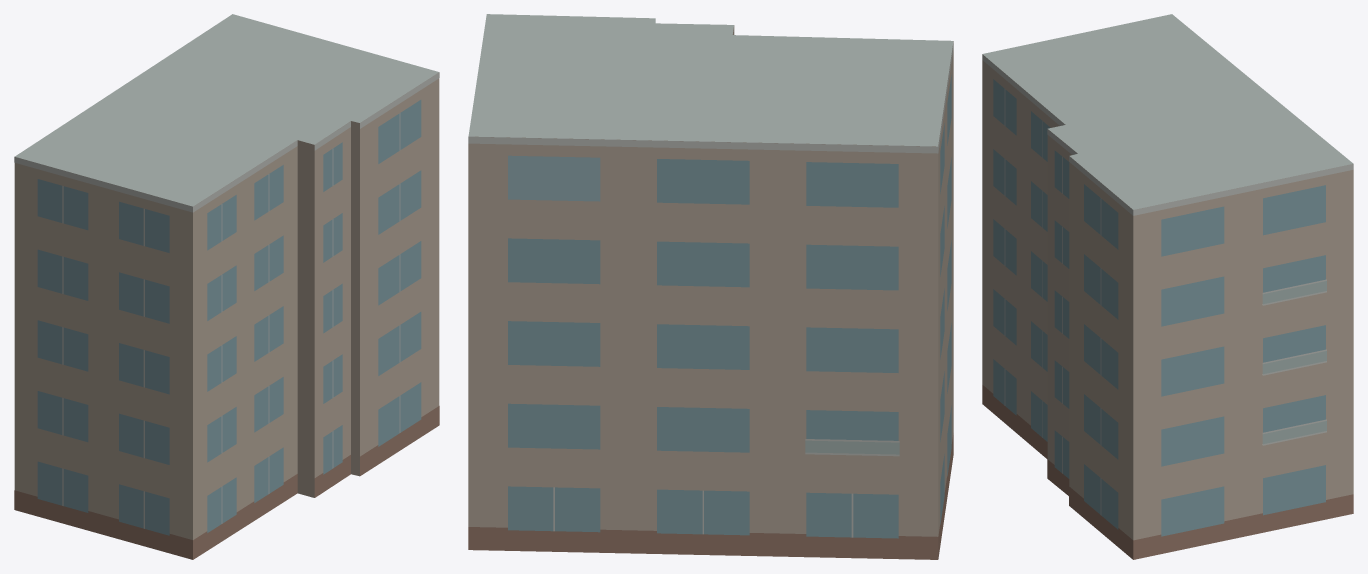
Rendered from survey-upis-32839984.glb.
The picture shows the model from 3 angles, left to right: view 1: azimuth 30°, elevation 25°; view 2: azimuth 150°, elevation 25°; view 3: azimuth 270°, elevation 25°; orthographic projection. The views are drawn at different scales.
Visible parts, largest first — view 1: survey-upis-32839984.tmp; view 2: survey-upis-32839984.tmp; view 3: survey-upis-32839984.tmp.
Part boxes in pixels (box(x1,y1,x2,y2)): survey-upis-32839984.tmp: box(14, 14, 439, 559); survey-upis-32839984.tmp: box(468, 14, 953, 559); survey-upis-32839984.tmp: box(982, 14, 1353, 559).
Bounding box in the file's own units: 17.3 × 14.4 × 13.86.
